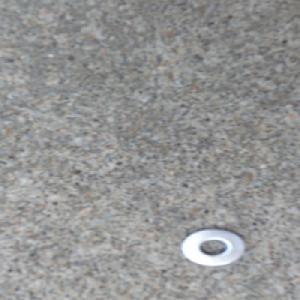Washer: (177, 227, 248, 268)
